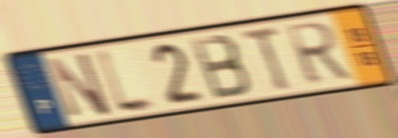2: (151, 41, 207, 107)
B: (187, 32, 255, 103)
L: (92, 43, 164, 119)
N: (45, 49, 115, 120)
R: (283, 19, 355, 88)
T: (239, 23, 295, 94)
